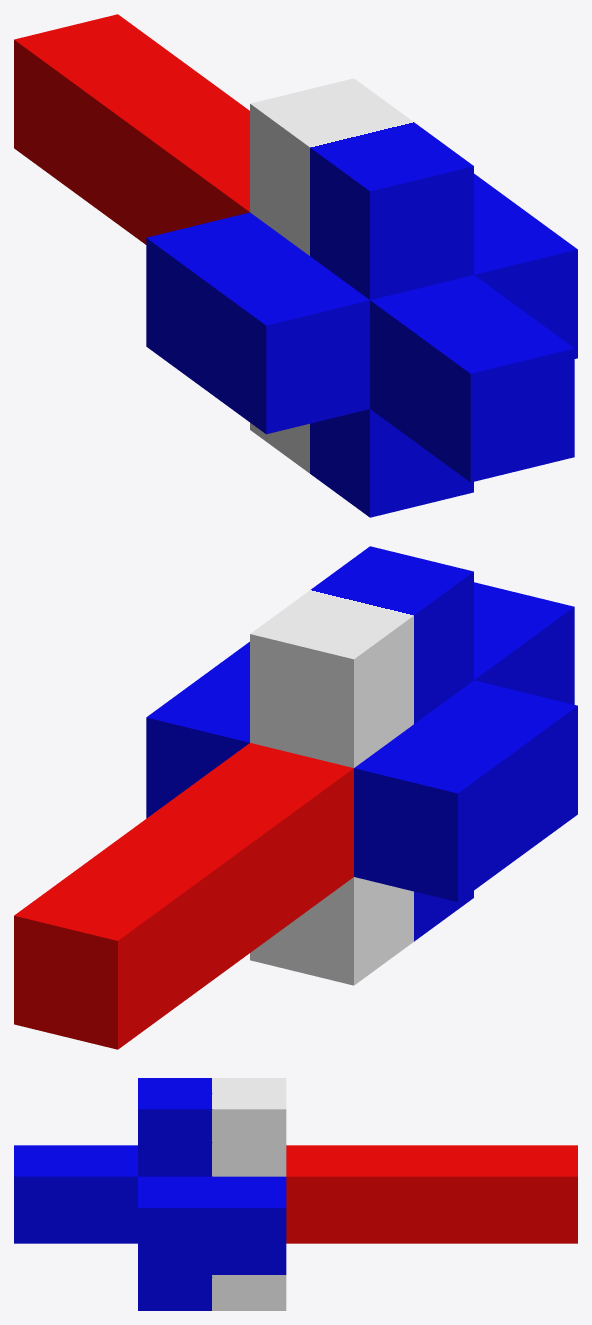
The model's file is Missile.fbx.
3 views of the same model, one above another, from view 1: azimuth 30°, elevation 25°; view 2: azimuth 150°, elevation 25°; view 3: azimuth 270°, elevation 25° (orthographic). The views are drawn at different scales.
Visible parts, largest first — view 1: Mine2; view 2: Mine2; view 3: Mine2.
Part boxes in pixels (x1=…): Mine2: x1=14, y1=14, x2=577, y2=517; Mine2: x1=14, y1=546, x2=577, y2=1049; Mine2: x1=14, y1=1078, x2=577, y2=1310.
Bounding box in the file's own units: 0.3028 × 0.3028 × 0.7682.
Materials: 1 (1 with a texture image).
